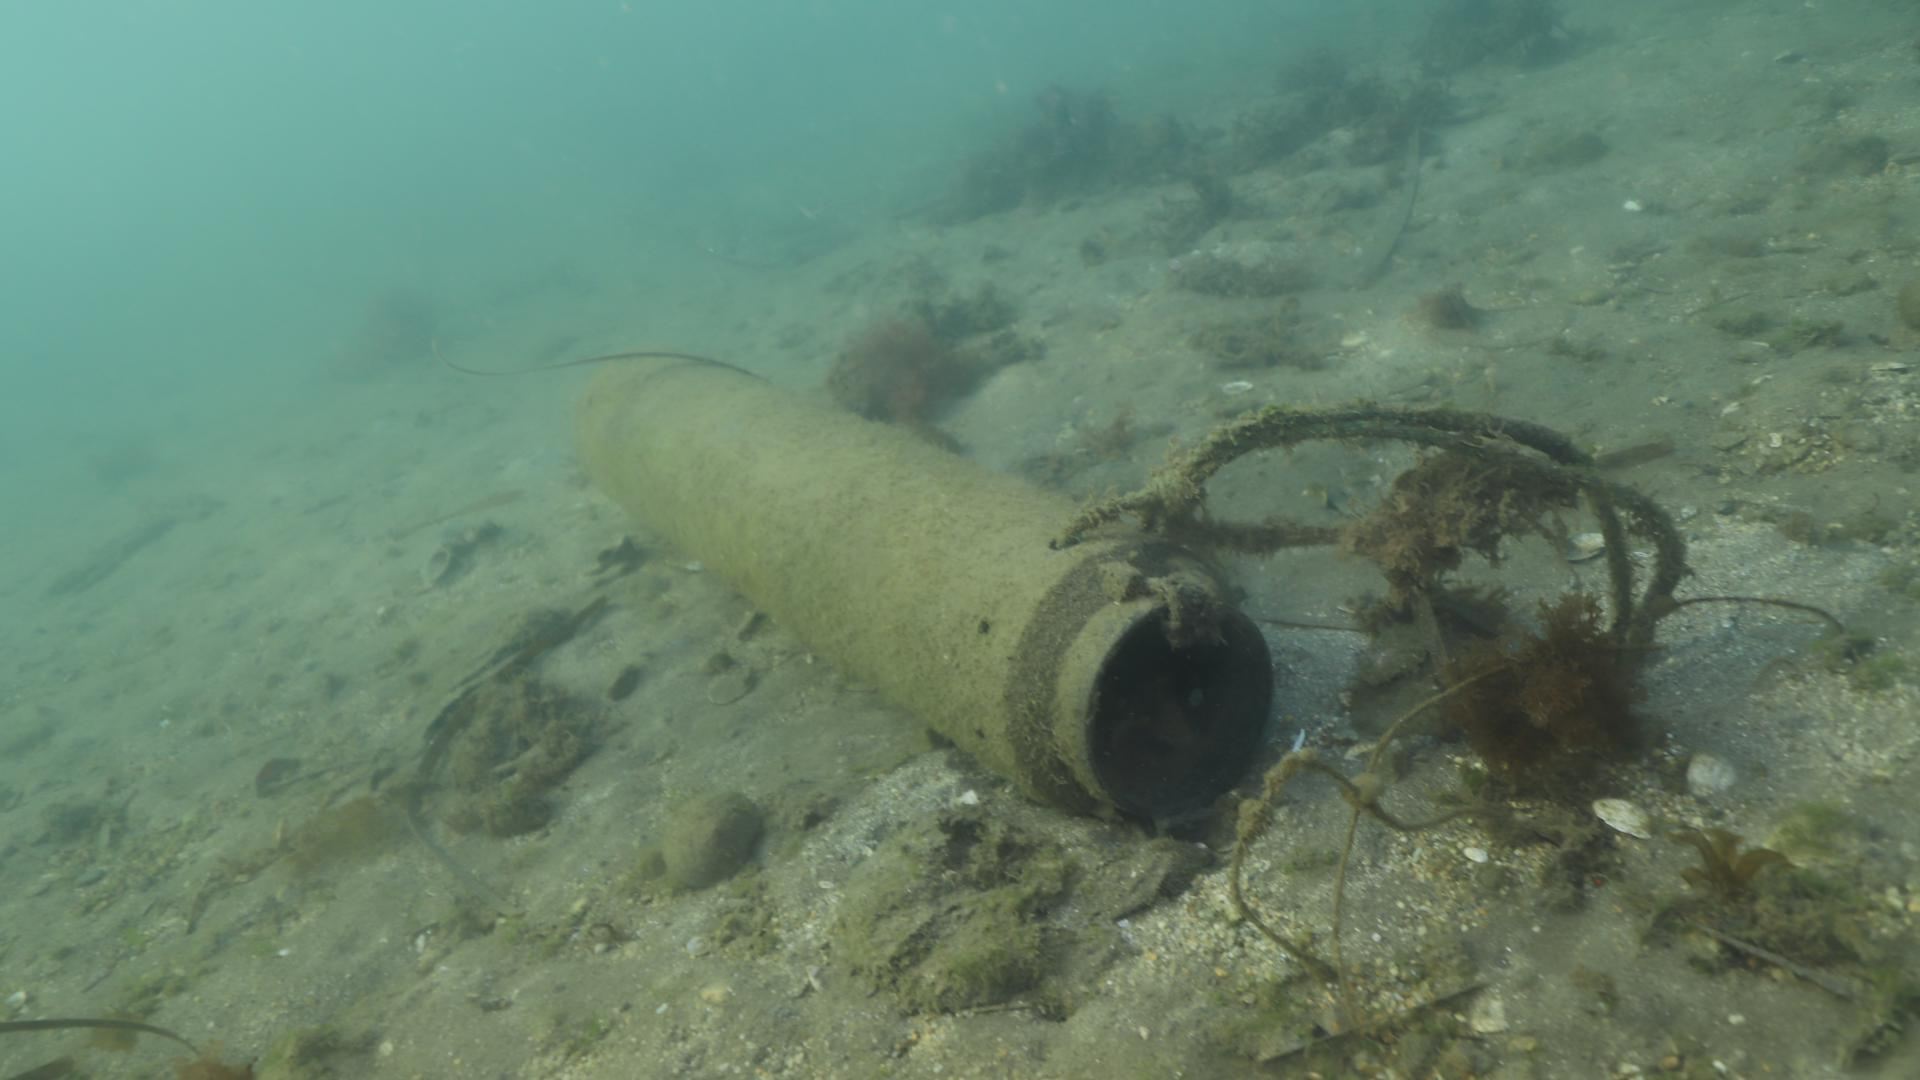bundle of ropes: (1055, 407, 1687, 650)
eel fish trap: (568, 349, 1275, 816)
